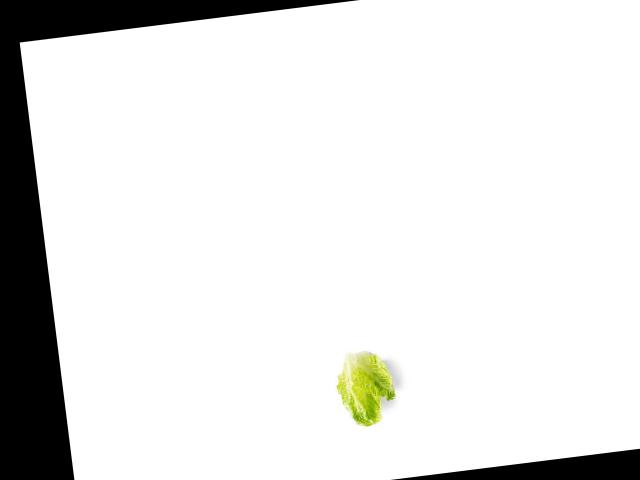lettuce: (329, 340, 400, 434)
